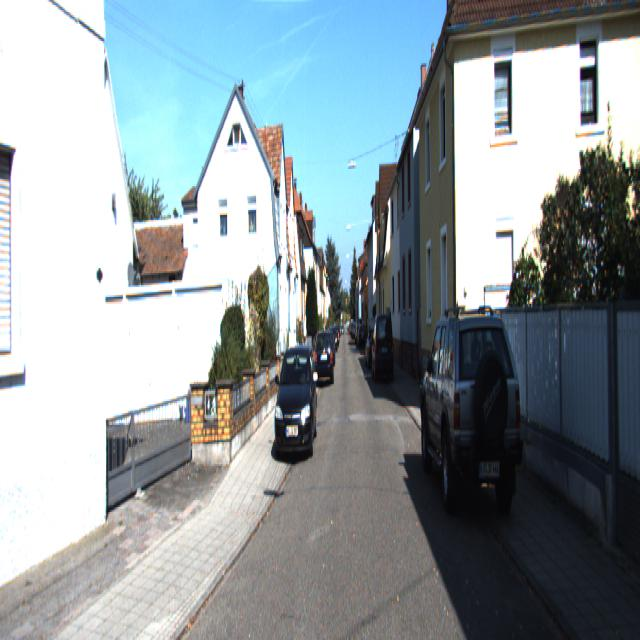Car: (418, 299, 527, 526), (273, 336, 318, 461), (372, 308, 395, 380), (315, 328, 334, 389)
